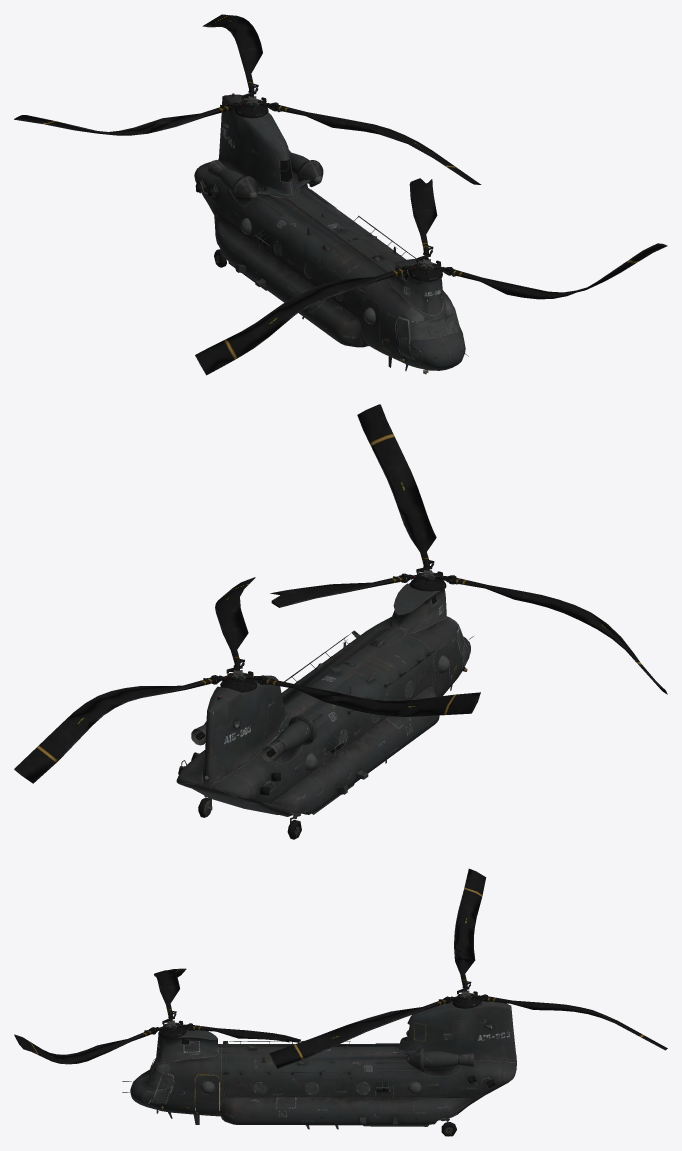
Rendered from ch47c_casino_static.glb.
3 renders of one model, top to bottom at view 1: azimuth 30°, elevation 25°; view 2: azimuth 150°, elevation 25°; view 3: azimuth 270°, elevation 25°, orthographic. The views are drawn at different scales.
Visible parts, largest first — view 1: ch47_casino_LOD0; view 2: ch47_casino_LOD0; view 3: ch47_casino_LOD0.
Part boxes in pixels (x1,y1,x2,y2): ch47_casino_LOD0: [14, 14, 667, 375]; ch47_casino_LOD0: [14, 404, 667, 839]; ch47_casino_LOD0: [14, 868, 667, 1136].
Size of the model in its own units: 15.19 by 7.19 by 26.86.
4 materials, 3 textured.
